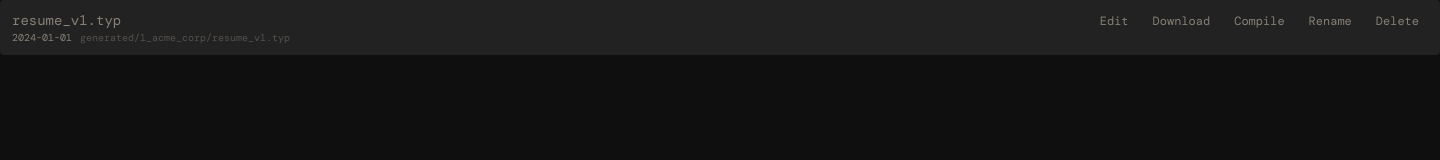
it: DocRow › shows rename input on Rename click
Click the button "Rename". click: {"x": 1330, "y": 21}
box: [1300,10,1361,32]
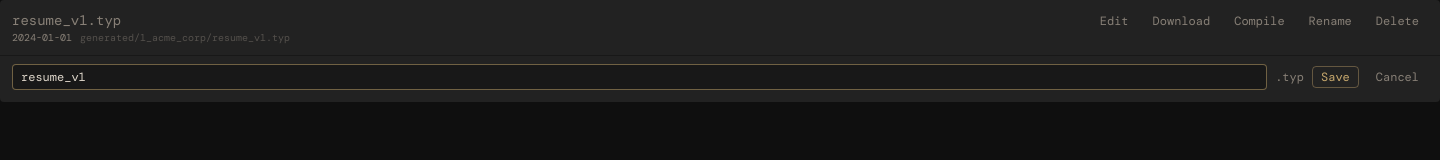
Expected: the field with placeholder "new-filename" is shown, [12,64,1267,90]
